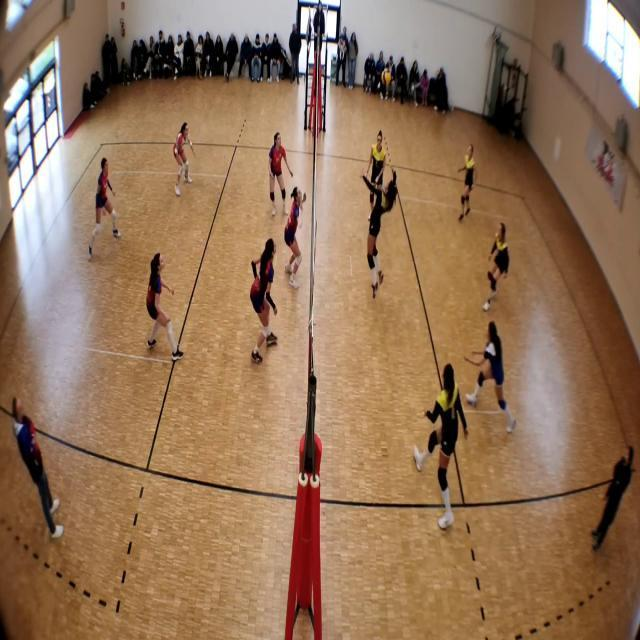volleyball: (380, 69, 390, 85)
